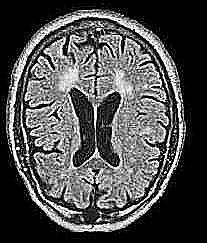Normal_Brain: (1, 3, 207, 243)
